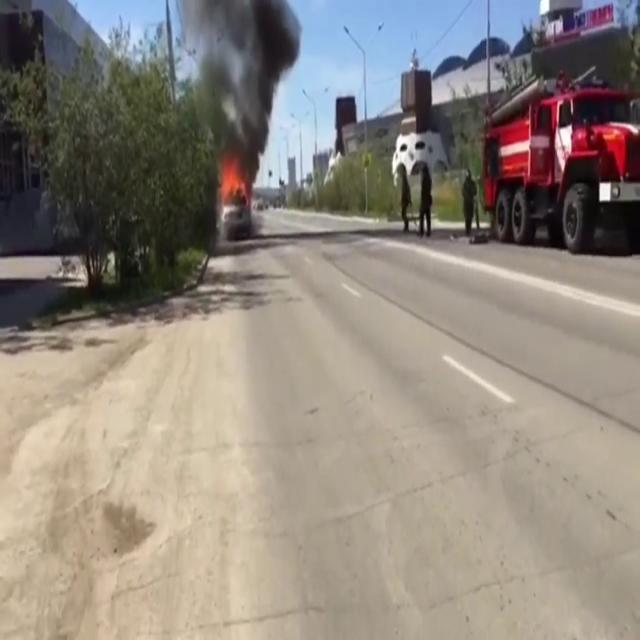Fire: (216, 152, 250, 212)
Smoke: (171, 0, 305, 163)
